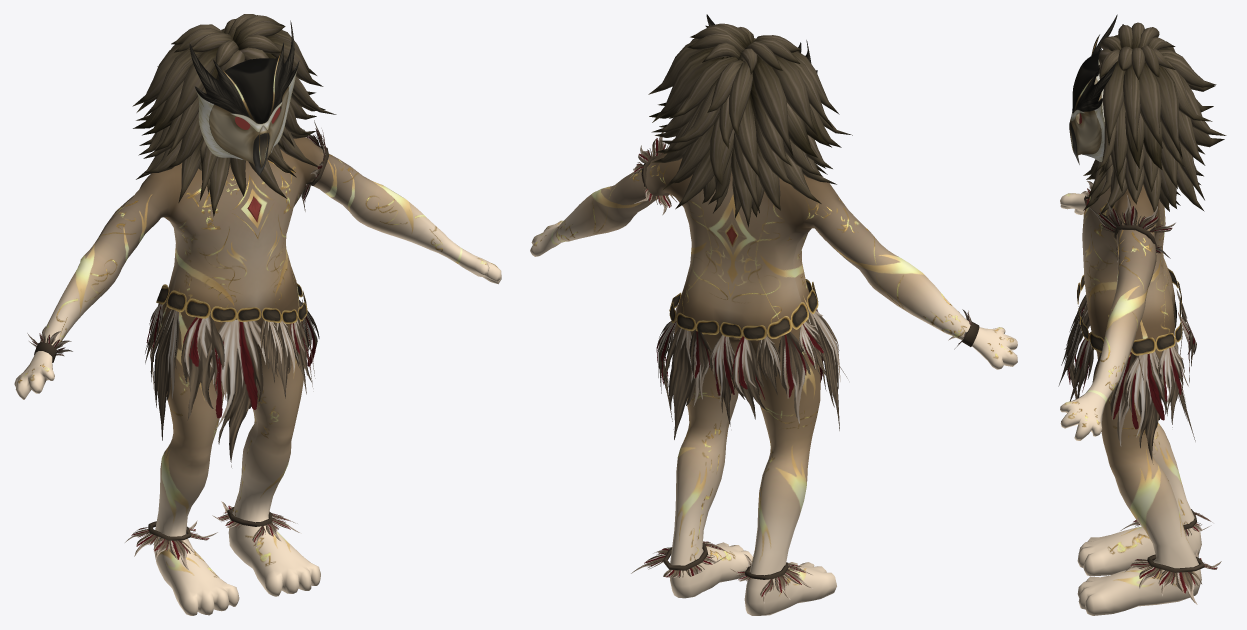
File: F_Owl.fbx
3 renders of one model, left to right at view 1: azimuth 30°, elevation 25°; view 2: azimuth 150°, elevation 25°; view 3: azimuth 270°, elevation 25°, orthographic. The views are drawn at different scales.
Parts seen in each view (by area): view 1: F_Owl, F_Owl_Outfit, F_OwlMask; view 2: F_Owl, F_Owl_Outfit; view 3: F_Owl, F_Owl_Outfit, F_OwlMask.
Boxes of the visible parts, box(x1,y1,x2,y2) form: F_Owl: box(14, 14, 501, 615); F_Owl_Outfit: box(27, 120, 328, 570); F_OwlMask: box(189, 20, 299, 175); F_Owl: box(530, 23, 1017, 615); F_Owl_Outfit: box(631, 132, 979, 603); F_Owl: box(1060, 22, 1226, 615); F_Owl_Outfit: box(1058, 180, 1221, 604); F_OwlMask: box(1069, 14, 1117, 164).
Size of the model in its own units: 174 by 194 by 59.57.
Materials: 3 (3 with a texture image).
